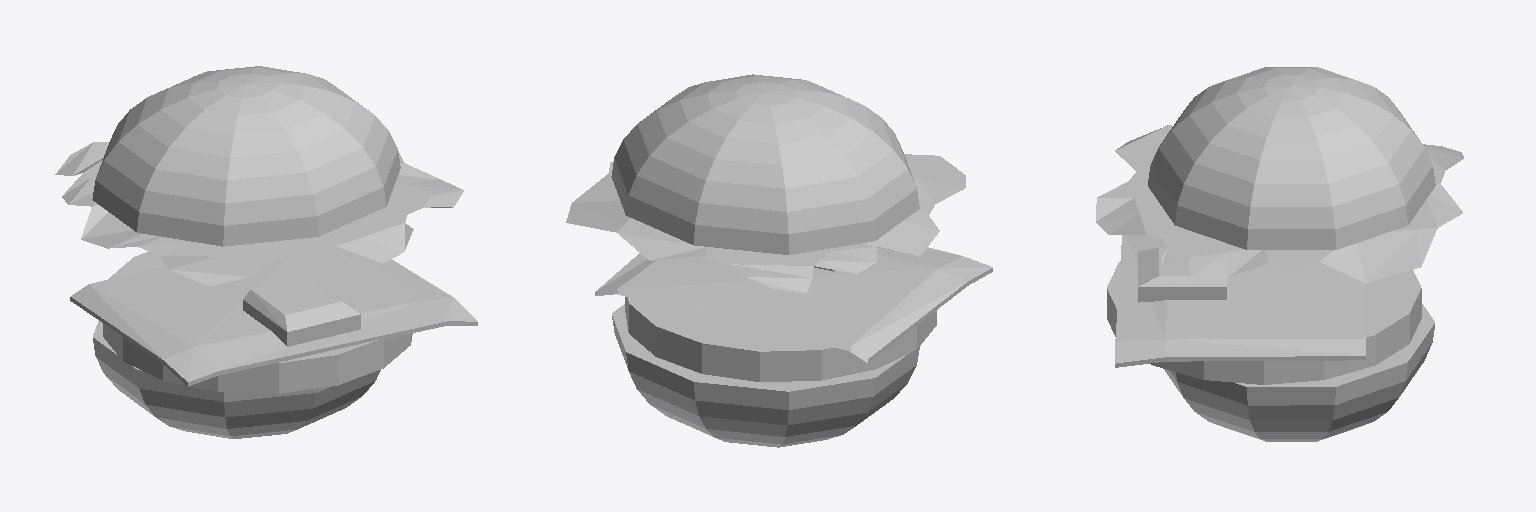
The model's file is Holy_Burger.obj.
3 views of the same model, side by side, from view 1: azimuth 30°, elevation 25°; view 2: azimuth 150°, elevation 25°; view 3: azimuth 270°, elevation 25° (orthographic).
Parts seen in each view (by area): view 1: Sphere.002_Sphere.001; view 2: Sphere.002_Sphere.001; view 3: Sphere.002_Sphere.001.
Boxes of the visible parts, x1=… form: Sphere.002_Sphere.001: x1=55, y1=66, x2=477, y2=438; Sphere.002_Sphere.001: x1=566, y1=74, x2=992, y2=447; Sphere.002_Sphere.001: x1=1096, y1=67, x2=1463, y2=441.
Size of the model in its own units: 81.62 by 80.41 by 79.67.